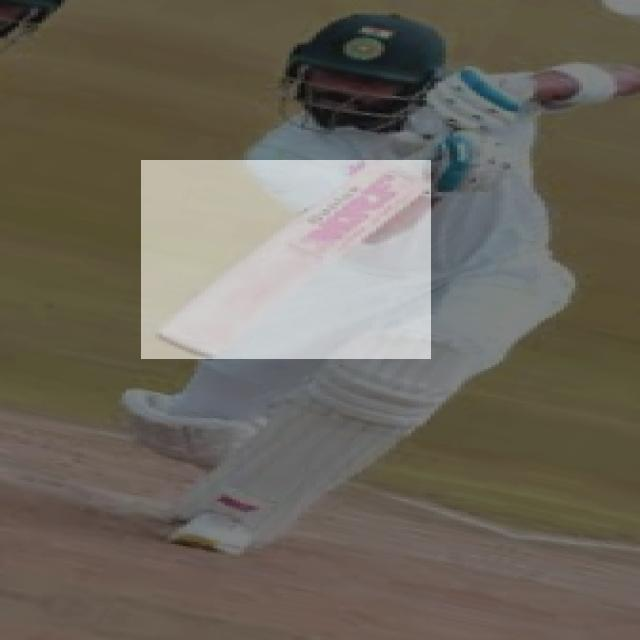bat: (141, 158, 434, 360)
toe: (154, 333, 216, 358)
